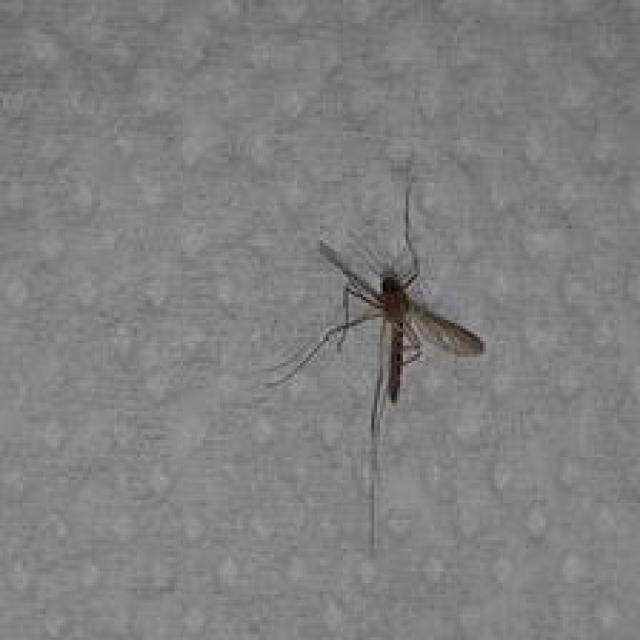Culex: (263, 176, 486, 550)
